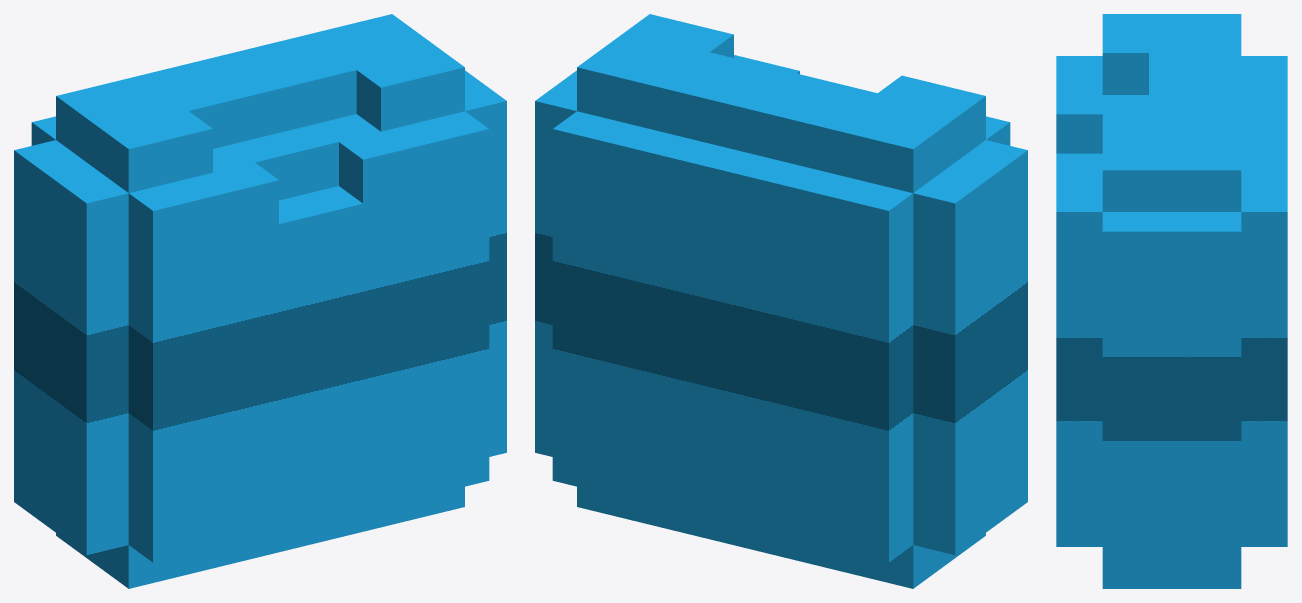
File: body_01.gltf
3 views of the same model, side by side, from view 1: azimuth 30°, elevation 25°; view 2: azimuth 150°, elevation 25°; view 3: azimuth 270°, elevation 25° (orthographic). The views are drawn at different scales.
Visible parts, largest first — view 1: Untitled-Mesh; view 2: Untitled-Mesh; view 3: Untitled-Mesh.
Boxes of the visible parts, left/top/right/bottom form: Untitled-Mesh: left=14, top=14, right=506, bottom=588; Untitled-Mesh: left=535, top=14, right=1027, bottom=588; Untitled-Mesh: left=1056, top=14, right=1287, bottom=588.
Size of the model in its own units: 10 by 10 by 5.
Materials: 1 (1 with a texture image).
